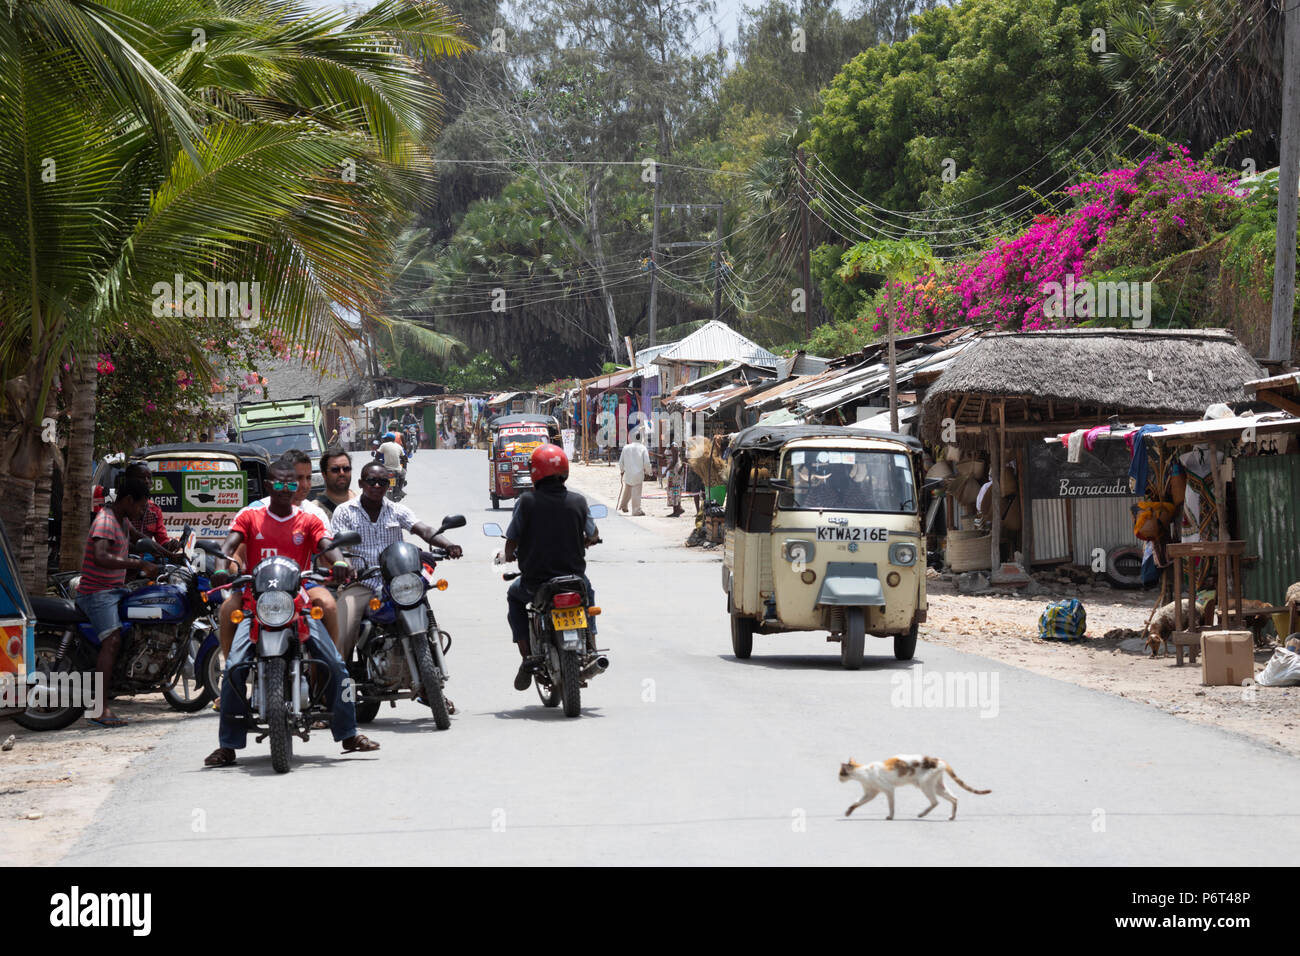bike: (226, 463, 366, 761), (48, 479, 214, 721), (498, 450, 611, 709), (358, 468, 446, 722)
car: (728, 432, 926, 662)
cat: (837, 757, 994, 821)
person: (612, 436, 648, 514)
